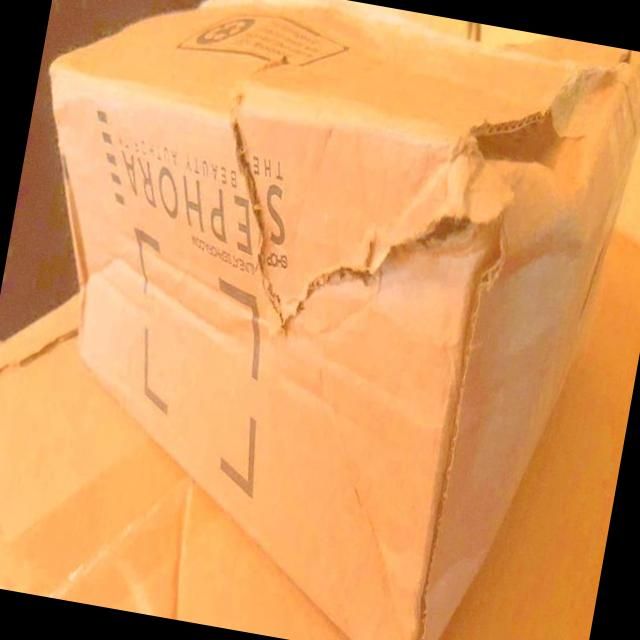box: (49, 1, 640, 640)
crushed: (226, 96, 473, 349), (475, 109, 586, 283)
